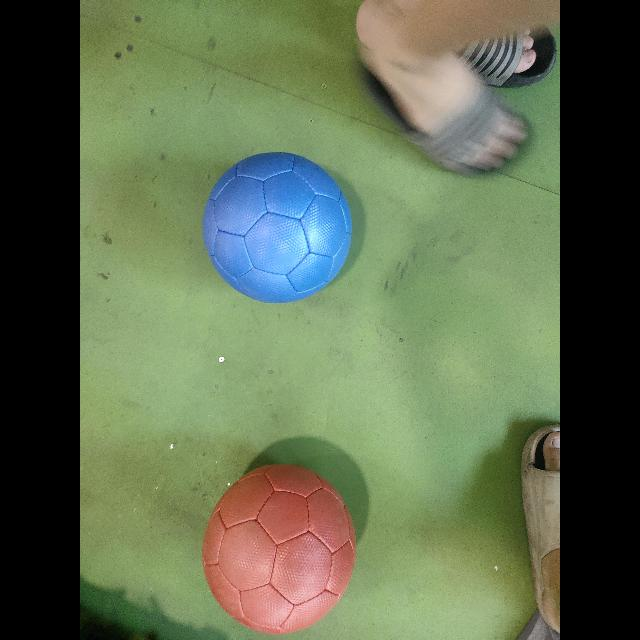B: (202, 152, 351, 302)
R: (202, 465, 355, 635)
